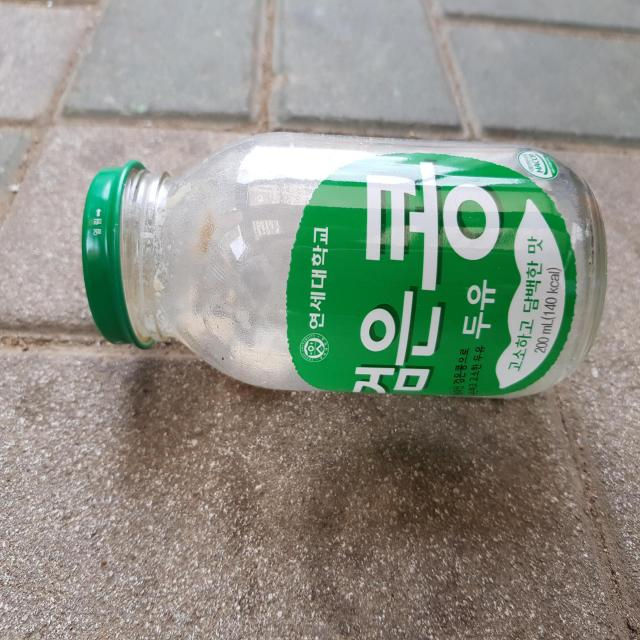glass: (81, 133, 607, 398)
